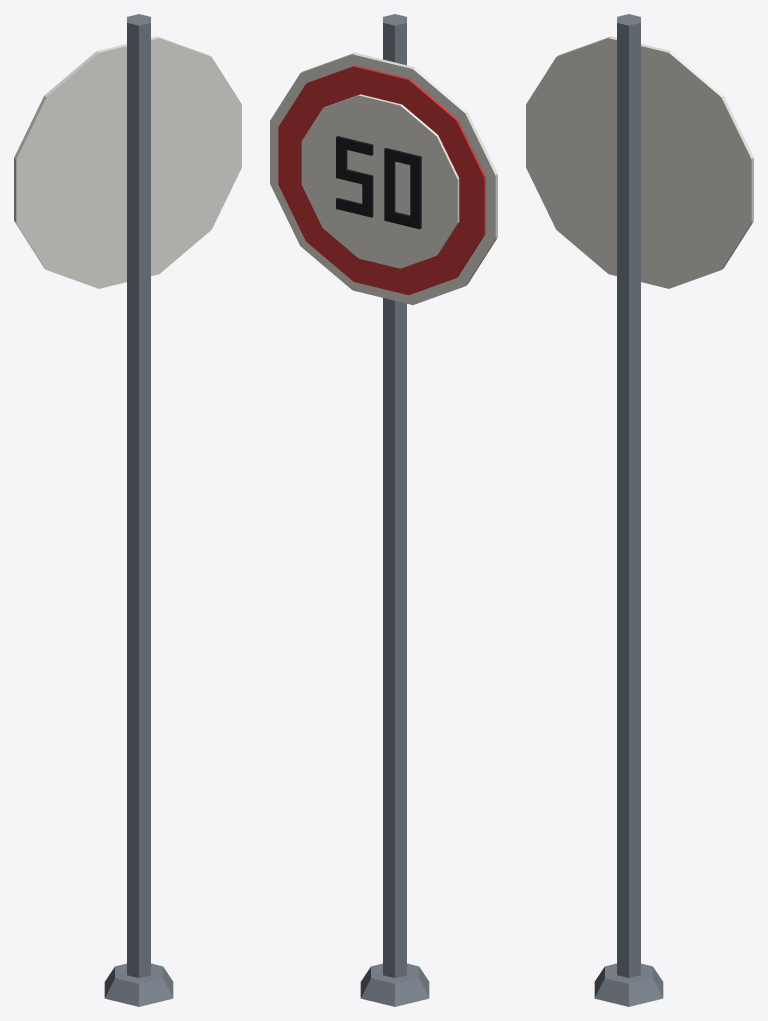
File: speed_sign.glb
The picture shows the model from 3 angles, left to right: view 1: azimuth 30°, elevation 25°; view 2: azimuth 150°, elevation 25°; view 3: azimuth 330°, elevation 25°; orthographic projection.
Visible parts, largest first — view 1: Body; view 2: Body; view 3: Body.
Boxes of the visible parts, box(x1,y1,x2,y2) form: Body: box(14, 14, 241, 1006); Body: box(270, 14, 497, 1006); Body: box(526, 14, 753, 1006).
Size of the model in its own units: 0.6568 by 2.7 by 0.1732.
